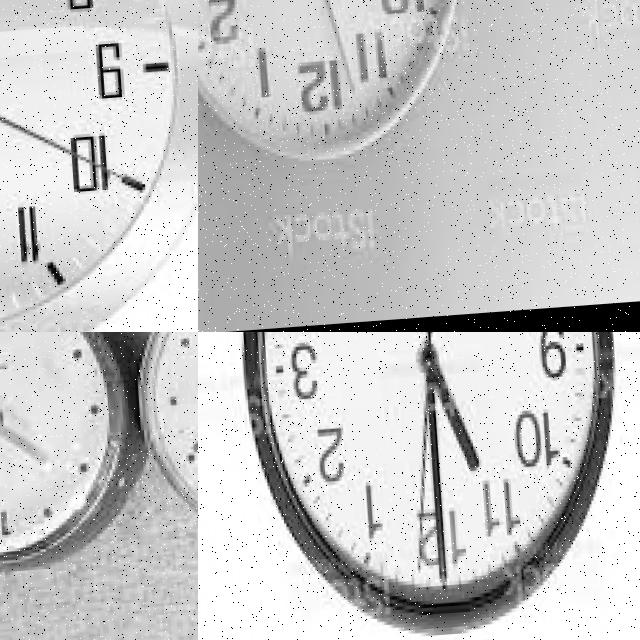Clocks-images: (227, 333, 624, 640), (1, 1, 199, 333), (199, 1, 471, 174), (1, 333, 128, 583), (128, 333, 199, 567)
